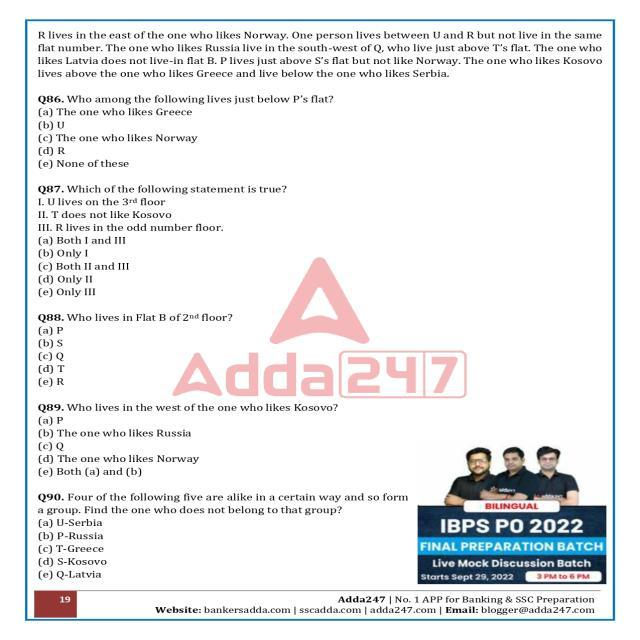Answer_Block: (27, 106, 614, 173), (25, 414, 616, 478), (28, 234, 616, 298), (24, 326, 614, 388), (21, 518, 616, 579)
Instruction: (24, 24, 610, 89)
Question_Answer_Block: (26, 182, 614, 298), (23, 488, 616, 579), (27, 90, 612, 172), (23, 310, 616, 390), (29, 400, 617, 478)
Question_Block: (25, 184, 616, 234), (25, 492, 618, 516), (26, 400, 612, 416), (29, 313, 614, 328), (24, 94, 610, 108)
Question_Paper_Area: (26, 19, 606, 590)
